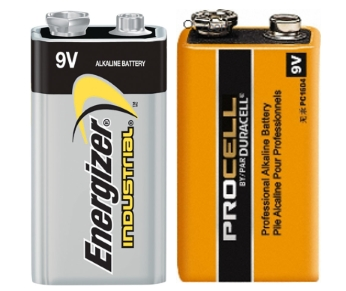9V: (176, 7, 321, 284), (26, 6, 169, 284)
